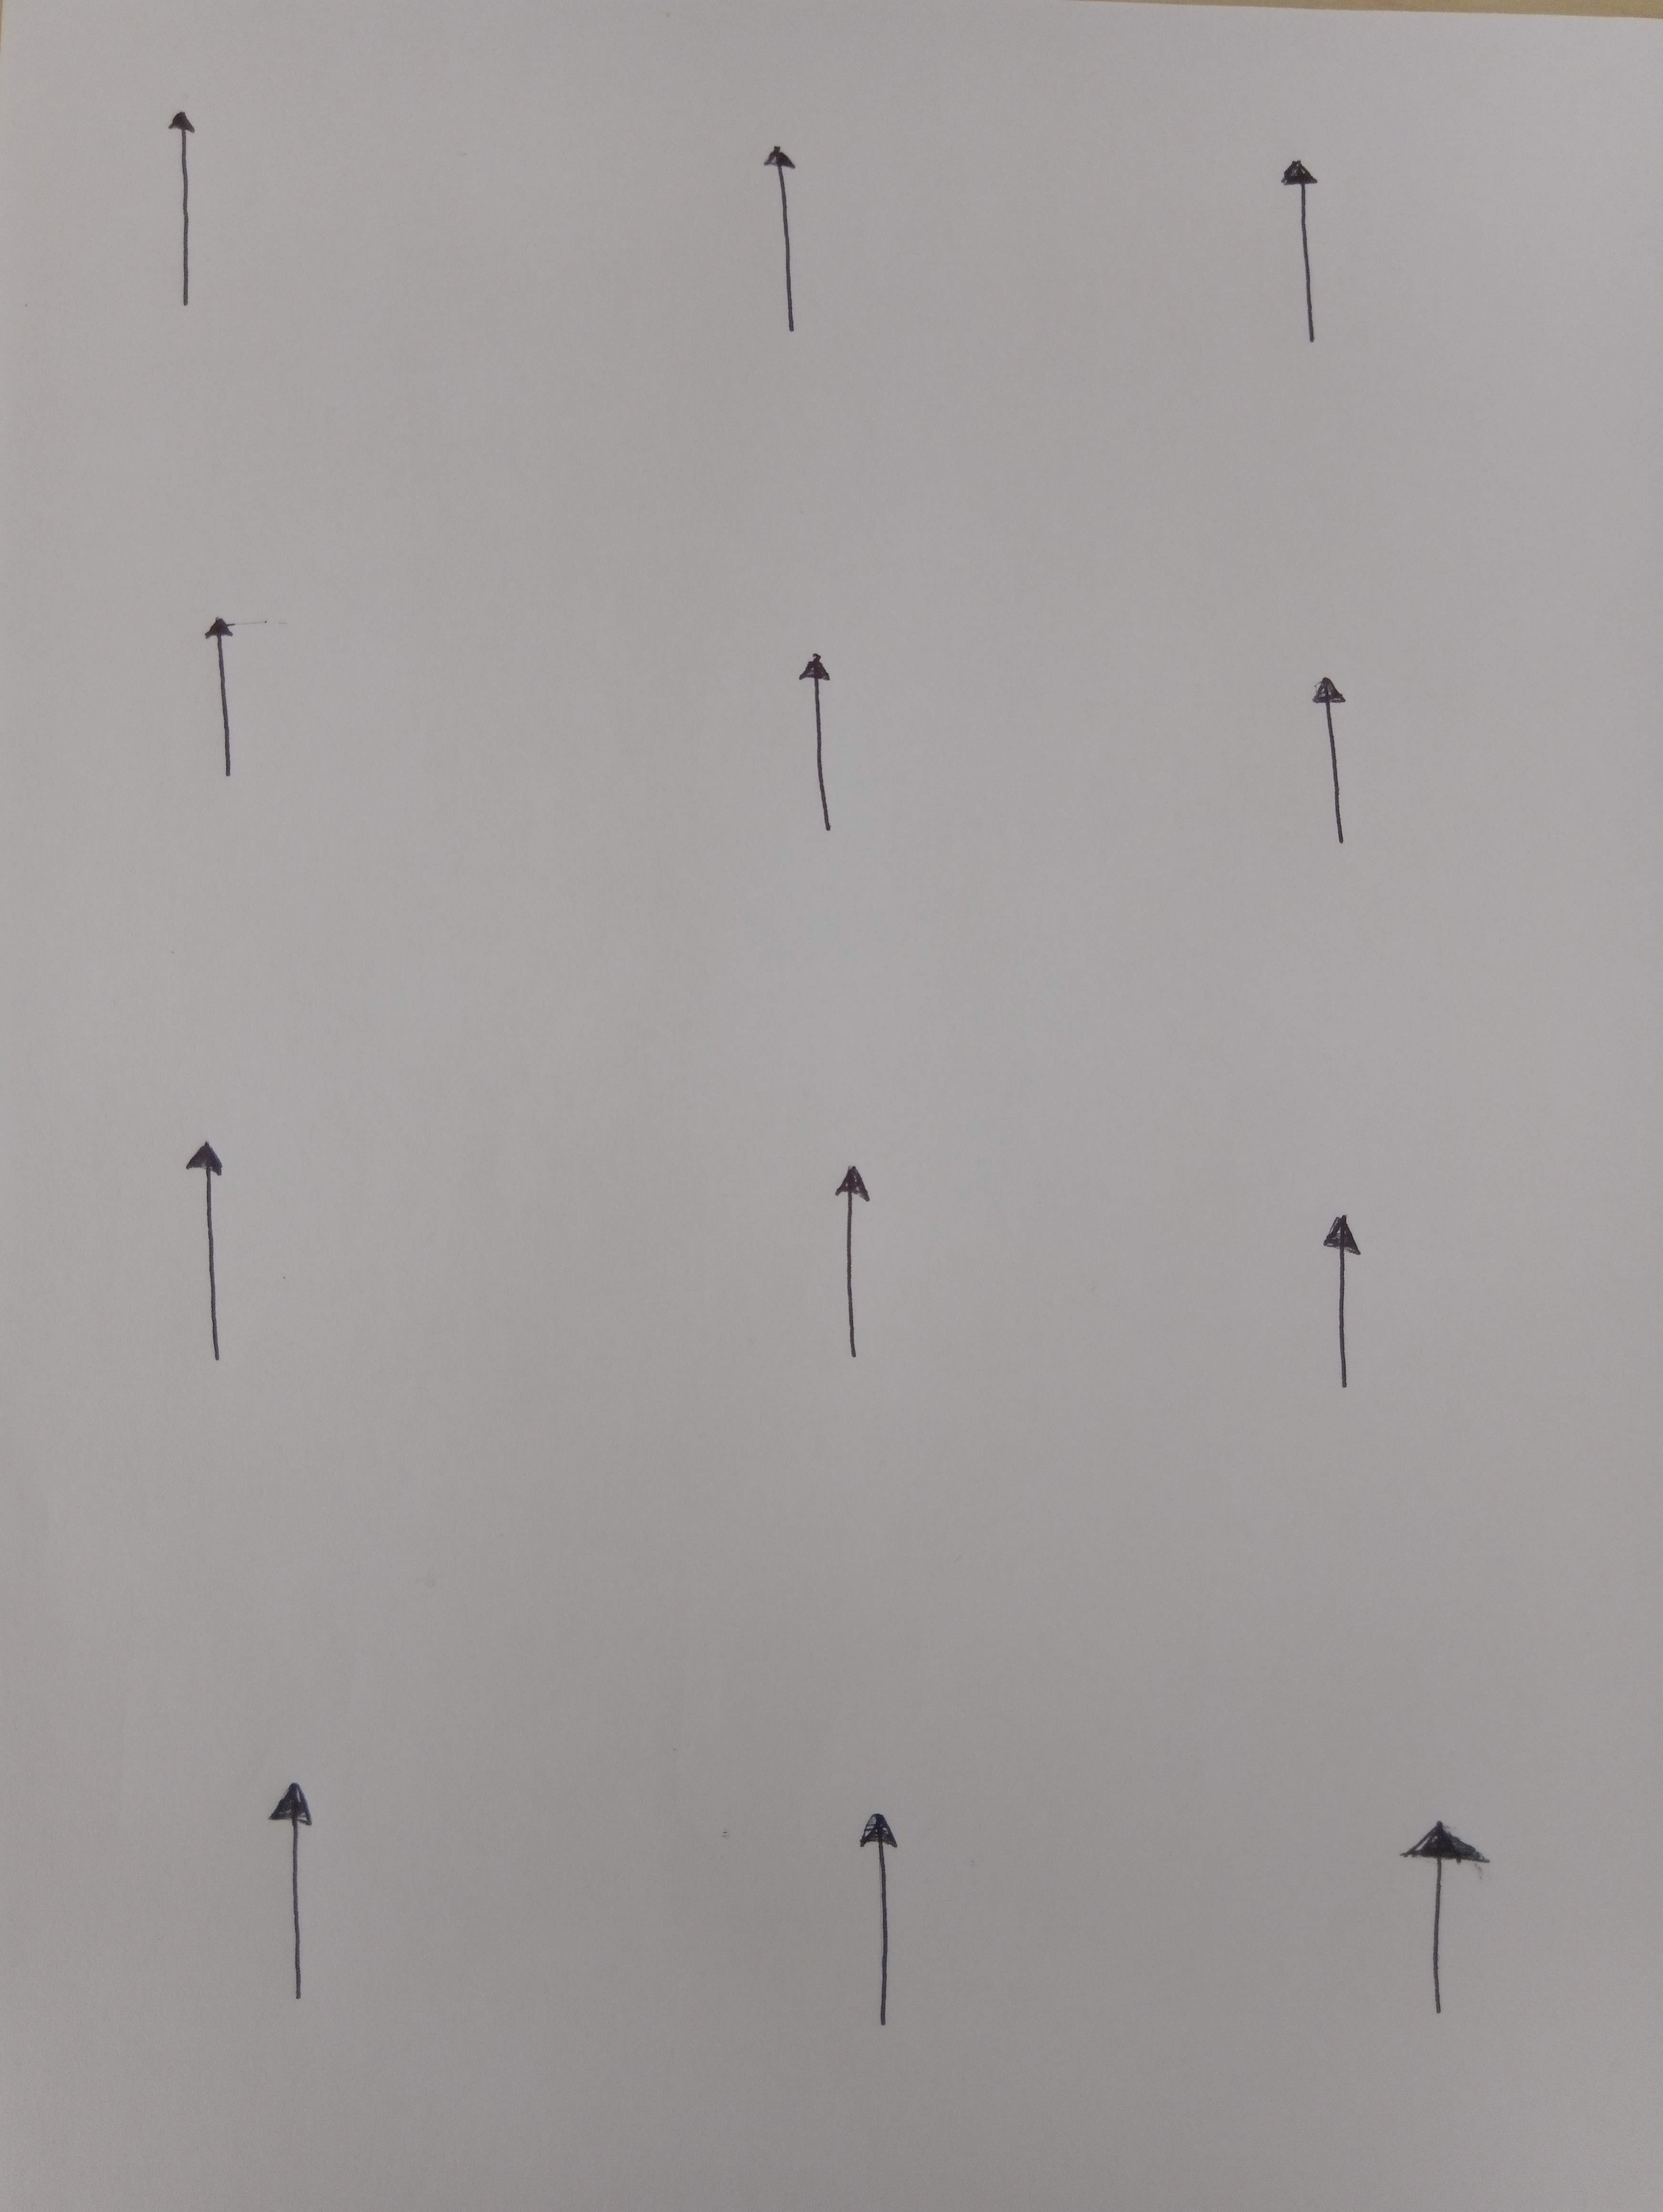arrow_line_up: (168, 1107, 285, 1388), (730, 127, 856, 360), (1390, 1783, 1502, 2041), (266, 1767, 370, 2037), (784, 644, 901, 868), (840, 1779, 940, 2037), (141, 105, 250, 340), (809, 1147, 898, 1395), (1261, 136, 1352, 372), (1298, 655, 1387, 880), (1314, 1170, 1385, 1395), (196, 611, 274, 782)
